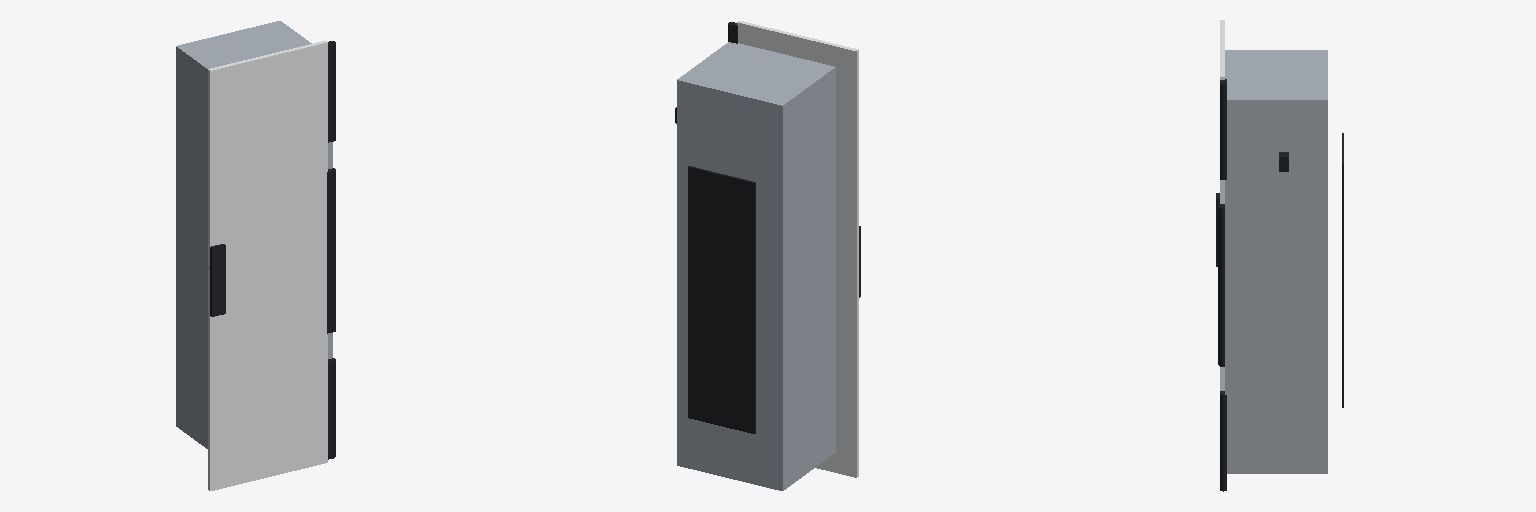
URDF robot description (tower_purifier):
<robot name="tower_purifier">
  <material name="shell_white">
    <color rgba="0.92 0.93 0.94 1" />
    </material>
  <material name="graphite">
    <color rgba="0.18 0.19 0.21 1" />
    </material>
  <material name="charcoal">
    <color rgba="0.24 0.25 0.26 1" />
    </material>
  <material name="satin">
    <color rgba="0.7 0.73 0.76 1" />
    </material>
  <link name="body">
    <visual name="body_shell">
      <geometry>
        <mesh filename="assets/meshes/body_shell.obj" />
        </geometry>
      <material name="shell_white">
        <color rgba="0.92 0.93 0.94 1" />
        </material>
      </visual>
    <visual name="top_shoulder">
      <origin xyz="0 0 0.924" rpy="0 0 0" />
      <geometry>
        <mesh filename="assets/meshes/top_shoulder.obj" />
        </geometry>
      <material name="graphite">
        <color rgba="0.18 0.19 0.21 1" />
        </material>
      </visual>
    <visual name="front_grille">
      <origin xyz="0 0.094 0.41" rpy="0 0 0" />
      <geometry>
        <box size="0.12 0.004 0.43" />
        </geometry>
      <material name="graphite">
        <color rgba="0.18 0.19 0.21 1" />
        </material>
      </visual>
    <visual name="body_mount_0">
      <origin xyz="0.086 -0.097 0.15" rpy="0 0 0" />
      <geometry>
        <box size="0.012 0.01 0.17" />
        </geometry>
      <material name="graphite">
        <color rgba="0.18 0.19 0.21 1" />
        </material>
      </visual>
    <visual name="body_knuckle_0">
      <origin xyz="0.092 -0.097 0.15" rpy="0 0 0" />
      <geometry>
        <cylinder radius="0.006" length="0.17" />
        </geometry>
      <material name="graphite">
        <color rgba="0.18 0.19 0.21 1" />
        </material>
      </visual>
    <visual name="body_mount_1">
      <origin xyz="0.086 -0.097 0.7" rpy="0 0 0" />
      <geometry>
        <box size="0.012 0.01 0.17" />
        </geometry>
      <material name="graphite">
        <color rgba="0.18 0.19 0.21 1" />
        </material>
      </visual>
    <visual name="body_knuckle_1">
      <origin xyz="0.092 -0.097 0.7" rpy="0 0 0" />
      <geometry>
        <cylinder radius="0.006" length="0.17" />
        </geometry>
      <material name="graphite">
        <color rgba="0.18 0.19 0.21 1" />
        </material>
      </visual>
    <collision name="body_shell">
      <geometry>
        <mesh filename="assets/meshes/body_shell.obj" />
        </geometry>
      </collision>
    <collision name="top_shoulder">
      <origin xyz="0 0 0.924" rpy="0 0 0" />
      <geometry>
        <mesh filename="assets/meshes/top_shoulder.obj" />
        </geometry>
      </collision>
    <collision name="front_grille">
      <origin xyz="0 0.094 0.41" rpy="0 0 0" />
      <geometry>
        <box size="0.12 0.004 0.43" />
        </geometry>
      </collision>
    <collision name="body_mount_0">
      <origin xyz="0.086 -0.097 0.15" rpy="0 0 0" />
      <geometry>
        <box size="0.012 0.01 0.17" />
        </geometry>
      </collision>
    <collision name="body_knuckle_0">
      <origin xyz="0.092 -0.097 0.15" rpy="0 0 0" />
      <geometry>
        <cylinder radius="0.006" length="0.17" />
        </geometry>
      </collision>
    <collision name="body_mount_1">
      <origin xyz="0.086 -0.097 0.7" rpy="0 0 0" />
      <geometry>
        <box size="0.012 0.01 0.17" />
        </geometry>
      </collision>
    <collision name="body_knuckle_1">
      <origin xyz="0.092 -0.097 0.7" rpy="0 0 0" />
      <geometry>
        <cylinder radius="0.006" length="0.17" />
        </geometry>
      </collision>
    </link>
  <link name="filter_door">
    <visual name="door_leaf">
      <origin xyz="-0.117 -0.004 0" rpy="0 0 0" />
      <geometry>
        <box size="0.214 0.008 0.73" />
        </geometry>
      <material name="shell_white">
        <color rgba="0.92 0.93 0.94 1" />
        </material>
      </visual>
    <visual name="door_pull">
      <origin xyz="-0.212 -0.009 0" rpy="0 0 0" />
      <geometry>
        <box size="0.024 0.01 0.12" />
        </geometry>
      <material name="graphite">
        <color rgba="0.18 0.19 0.21 1" />
        </material>
      </visual>
    <visual name="door_mount">
      <origin xyz="-0.007 -0.004 0" rpy="0 0 0" />
      <geometry>
        <box size="0.01 0.01 0.28" />
        </geometry>
      <material name="graphite">
        <color rgba="0.18 0.19 0.21 1" />
        </material>
      </visual>
    <visual name="door_knuckle">
      <origin xyz="0 -0.004 0" rpy="0 0 0" />
      <geometry>
        <cylinder radius="0.006" length="0.28" />
        </geometry>
      <material name="graphite">
        <color rgba="0.18 0.19 0.21 1" />
        </material>
      </visual>
    <collision name="door_leaf">
      <origin xyz="-0.117 -0.004 0" rpy="0 0 0" />
      <geometry>
        <box size="0.214 0.008 0.73" />
        </geometry>
      </collision>
    <collision name="door_pull">
      <origin xyz="-0.212 -0.009 0" rpy="0 0 0" />
      <geometry>
        <box size="0.024 0.01 0.12" />
        </geometry>
      </collision>
    <collision name="door_mount">
      <origin xyz="-0.007 -0.004 0" rpy="0 0 0" />
      <geometry>
        <box size="0.01 0.01 0.28" />
        </geometry>
      </collision>
    <collision name="door_knuckle">
      <origin xyz="0 -0.004 0" rpy="0 0 0" />
      <geometry>
        <cylinder radius="0.006" length="0.28" />
        </geometry>
      </collision>
    </link>
  <link name="filter_pack">
    <visual name="filter_frame">
      <origin xyz="0 0.0825 0" rpy="0 0 0" />
      <geometry>
        <box size="0.19 0.165 0.66" />
        </geometry>
      <material name="satin">
        <color rgba="0.7 0.73 0.76 1" />
        </material>
      </visual>
    <visual name="filter_media">
      <origin xyz="0 0.0865 0" rpy="0 0 0" />
      <geometry>
        <box size="0.168 0.151 0.61" />
        </geometry>
      <material name="charcoal">
        <color rgba="0.24 0.25 0.26 1" />
        </material>
      </visual>
    <collision name="filter_frame">
      <origin xyz="0 0.0825 0" rpy="0 0 0" />
      <geometry>
        <box size="0.19 0.165 0.66" />
        </geometry>
      </collision>
    <collision name="filter_media">
      <origin xyz="0 0.0865 0" rpy="0 0 0" />
      <geometry>
        <box size="0.168 0.151 0.61" />
        </geometry>
      </collision>
    </link>
  <link name="control_ring">
    <visual name="ring_shell">
      <geometry>
        <mesh filename="assets/meshes/control_ring.obj" />
        </geometry>
      <material name="satin">
        <color rgba="0.7 0.73 0.76 1" />
        </material>
      </visual>
    <collision name="ring_shell">
      <geometry>
        <mesh filename="assets/meshes/control_ring.obj" />
        </geometry>
      </collision>
    </link>
  <link name="timer_slider">
    <visual name="slider_runner">
      <geometry>
        <box size="0.026 0.01 0.01" />
        </geometry>
      <material name="graphite">
        <color rgba="0.18 0.19 0.21 1" />
        </material>
      </visual>
    <visual name="slider_thumb">
      <origin xyz="0.012 0 0" rpy="0 0 0" />
      <geometry>
        <box size="0.018 0.016 0.026" />
        </geometry>
      <material name="graphite">
        <color rgba="0.18 0.19 0.21 1" />
        </material>
      </visual>
    <collision name="slider_runner">
      <geometry>
        <box size="0.026 0.01 0.01" />
        </geometry>
      </collision>
    <collision name="slider_thumb">
      <origin xyz="0.012 0 0" rpy="0 0 0" />
      <geometry>
        <box size="0.018 0.016 0.026" />
        </geometry>
      </collision>
    </link>
  <joint name="body_to_filter_door" type="revolute">
    <origin xyz="0.092 -0.095 0.425" rpy="0 0 0" />
    <parent link="body" />
    <child link="filter_door" />
    <axis xyz="0 0 1" />
    <limit effort="10" velocity="1.5" lower="0" upper="2.1" />
    </joint>
  <joint name="body_to_filter_pack" type="prismatic">
    <origin xyz="0 -0.095 0.425" rpy="0 0 0" />
    <parent link="body" />
    <child link="filter_pack" />
    <axis xyz="0 -1 0" />
    <limit effort="20" velocity="0.12" lower="0" upper="0.11" />
    </joint>
  <joint name="body_to_control_ring" type="continuous">
    <origin xyz="0 0 0.939" rpy="0 0 0" />
    <parent link="body" />
    <child link="control_ring" />
    <axis xyz="0 0 1" />
    <limit effort="2" velocity="6" />
    </joint>
  <joint name="body_to_timer_slider" type="prismatic">
    <origin xyz="0.113 0 0.66" rpy="0 0 0" />
    <parent link="body" />
    <child link="timer_slider" />
    <axis xyz="0 0 1" />
    <limit effort="1" velocity="0.08" lower="-0.022" upper="0.022" />
    </joint>
  </robot>

--- Render facts (derived) ---
3 views of the same robot in one strip: view 1: azimuth 30°, elevation 25°; view 2: azimuth 150°, elevation 25°; view 3: azimuth 270°, elevation 25° (orthographic).
Model tower_purifier with 5 links and 4 joints (1 revolute, 1 continuous, 2 prismatic), rooted at body, posed every joint at zero.
Visible links, largest first — view 1: filter_door, filter_pack, body; view 2: filter_pack, body, filter_door; view 3: filter_pack, body, filter_door.
Boxes of the visible links, box(x1,y1,x2,y2) form: filter_door: box(208, 40, 335, 490); filter_pack: box(176, 21, 332, 448); body: box(328, 41, 335, 459); filter_pack: box(677, 42, 835, 490); body: box(688, 22, 755, 433); filter_door: box(737, 21, 860, 477); filter_pack: box(1225, 50, 1327, 473); body: box(1220, 79, 1343, 491); filter_door: box(1216, 20, 1224, 390).
Size in the robot's own frame: 0.266 by 0.205 by 0.73 metres.
Meshes: 3 distinct files referenced, 0 mesh visuals loaded (none loaded); not drawn: 3 (reference not matched to a file when rendering).
